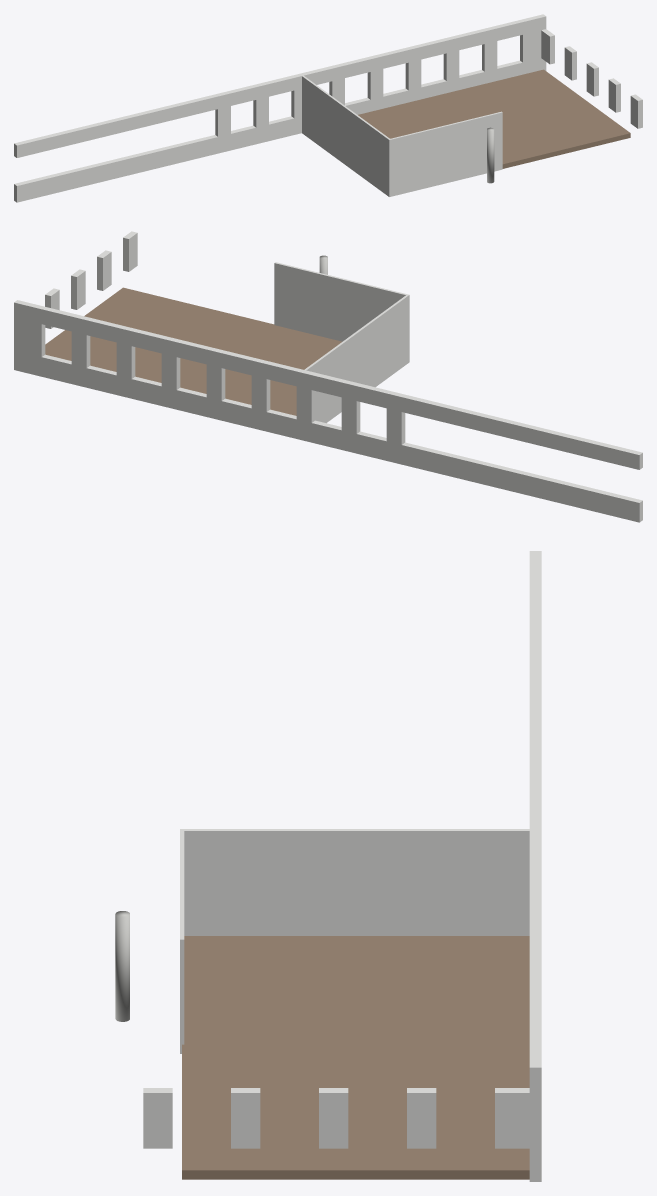
The model's file is SM_Bygg_Helgasetr_P2_O_N.fbx.
The picture shows the model from 3 angles, top to bottom: view 1: azimuth 30°, elevation 25°; view 2: azimuth 150°, elevation 25°; view 3: azimuth 270°, elevation 25°; orthographic projection. The views are drawn at different scales.
Parts seen in each view (by area): view 1: SM_Bygg_Helgasetr_P2_O_N; view 2: SM_Bygg_Helgasetr_P2_O_N; view 3: SM_Bygg_Helgasetr_P2_O_N.
Boxes of the visible parts, left/top/right/bottom form: SM_Bygg_Helgasetr_P2_O_N: left=14, top=14, right=642, bottom=202; SM_Bygg_Helgasetr_P2_O_N: left=14, top=231, right=642, bottom=522; SM_Bygg_Helgasetr_P2_O_N: left=115, top=551, right=541, bottom=1181.
Size of the model in its own units: 14.53 by 41.7 by 4.3.
